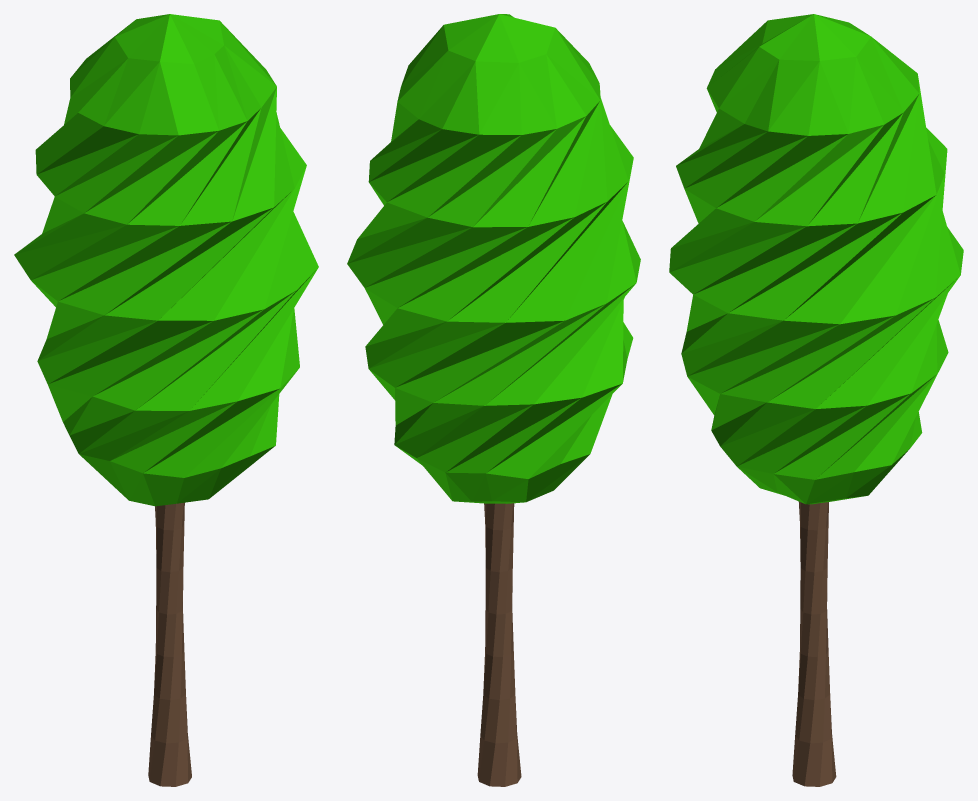
Rendered from Tree1.fbx.
The picture shows the model from 3 angles, left to right: view 1: azimuth 30°, elevation 25°; view 2: azimuth 150°, elevation 25°; view 3: azimuth 270°, elevation 25°; orthographic projection.
Parts seen in each view (by area): view 1: low poly tree; view 2: low poly tree; view 3: low poly tree.
Part boxes in pixels (bbox=[...]): low poly tree: bbox=[14, 14, 318, 786]; low poly tree: bbox=[347, 14, 640, 786]; low poly tree: bbox=[669, 14, 963, 786].
Size of the model in its own units: 13968 by 40174 by 14045.
